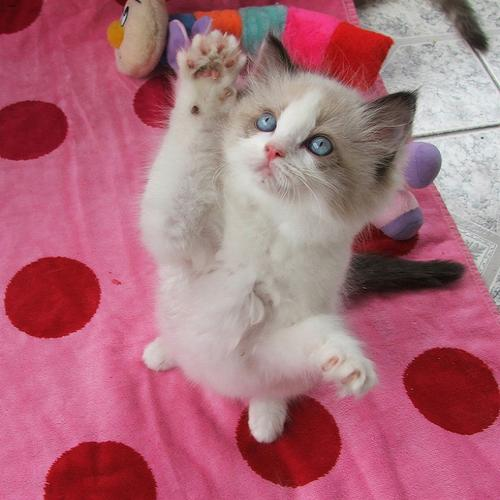ragdoll: (213, 28, 412, 239)
